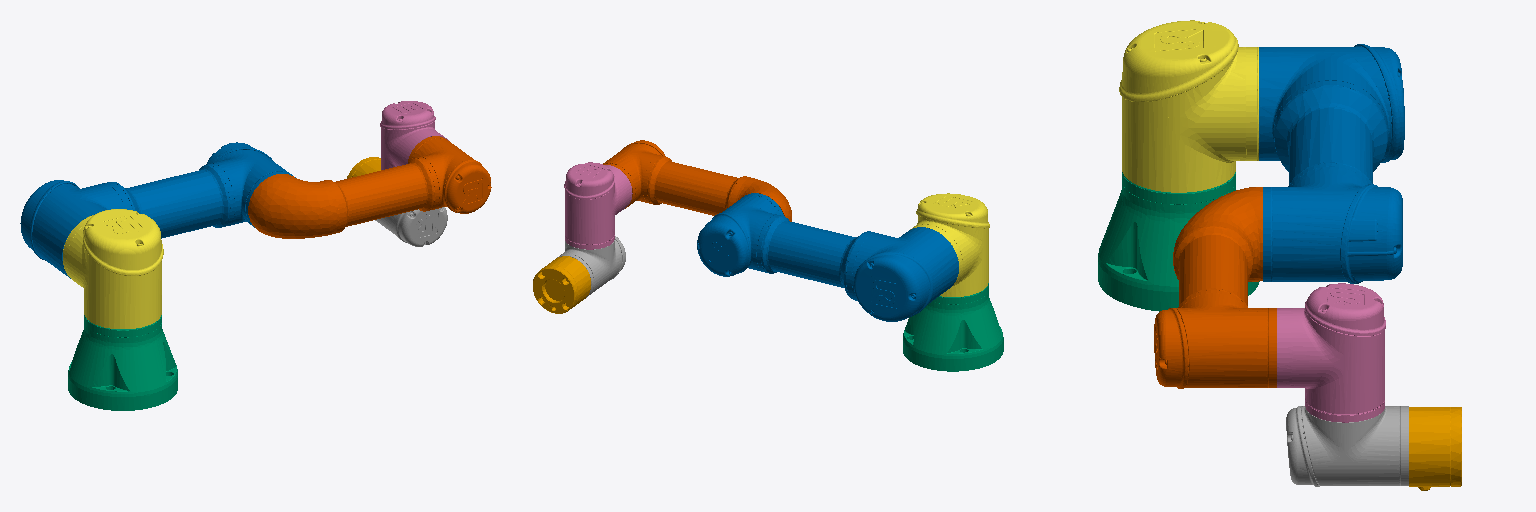
robot.urdf — ur3e:
<?xml version="1.0" ?>
<robot name="ur3e">
  <mujoco>
    <compiler 
      meshdir="meshes/" 
      balanceinertia="true" 
      discardvisual="false"
    />
  </mujoco>

  <!-- create link fixed to the "world" -->
  <link name="world"/>
  <!-- Add URDF transmission elements (for ros_control) -->
  <!--<xacro:ur_arm_transmission prefix="${prefix}" hw_interface="${transmission_hw_interface}" />-->
  <!-- Placeholder for ros2_control transmission which don't yet exist -->
  <!-- links -  main serial chain -->
  <link name="base_link"/>
  <link name="base_link_inertia">
    <visual>
      <origin rpy="0 0 3.141592653589793" xyz="0 0 0"/>
      <geometry>
        <mesh filename="meshes/base.stl"/>
      </geometry>
    </visual>
    <collision>
      <origin rpy="0 0 3.141592653589793" xyz="0 0 0"/>
      <geometry>
        <mesh filename="meshes/base.stl"/>
      </geometry>
    </collision>
    <inertial>
      <mass value="2.0"/>
      <origin rpy="0 0 0" xyz="0 0 0"/>
      <inertia ixx="0.0030531654454" ixy="0.0" ixz="0.0" iyy="0.0030531654454" iyz="0.0" izz="0.005625"/>
    </inertial>
  </link>
  <link name="shoulder_link">
    <visual>
      <origin rpy="0 0 3.141592653589793" xyz="0 0 0"/>
      <geometry>
        <mesh filename="meshes/shoulder.stl"/>
      </geometry>
    </visual>
    <collision>
      <origin rpy="0 0 3.141592653589793" xyz="0 0 0"/>
      <geometry>
        <mesh filename="meshes/shoulder.stl"/>
      </geometry>
    </collision>
    <inertial>
      <mass value="1.98"/>
      <origin rpy="1.570796326794897 0 0" xyz="0.0 0.0 -0.02"/>
      <inertia ixx="0.0027657" ixy="9.6e-06" ixz="-1.49e-05" iyy="0.0021501" iyz="0.0001873" izz="0.0025626"/>
    </inertial>
  </link>
  <link name="upper_arm_link">
    <visual>
      <origin rpy="1.5707963267948966 0 -1.5707963267948966" xyz="0 0 0.12"/>
      <geometry>
        <mesh filename="meshes/upperarm.stl"/>
      </geometry>
    </visual>
    <collision>
      <origin rpy="1.5707963267948966 0 -1.5707963267948966" xyz="0 0 0.12"/>
      <geometry>
        <mesh filename="meshes/upperarm.stl"/>
      </geometry>
    </collision>
    <inertial>
      <mass value="3.4445"/>
      <origin rpy="0 0 0" xyz="-0.11355 0.0 0.1157"/>
      <inertia ixx="0.0042623" ixy="-4.09e-05" ixz="-0.001496" iyy="0.0460284" iyz="-1.29e-05" izz="0.0448947"/>
    </inertial>
  </link>
  <link name="forearm_link">
    <visual>
      <origin rpy="1.5707963267948966 0 -1.5707963267948966" xyz="0 0 0.027"/>
      <geometry>
        <mesh filename="meshes/forearm.stl"/>
      </geometry>
    </visual>
    <collision>
      <origin rpy="1.5707963267948966 0 -1.5707963267948966" xyz="0 0 0.027"/>
      <geometry>
        <mesh filename="meshes/forearm.stl"/>
      </geometry>
    </collision>
    <inertial>
      <mass value="1.437"/>
      <origin rpy="0 0 0" xyz="-0.1632 0.0 0.0238"/>
      <inertia ixx="0.0010511" ixy="0.0" ixz="-3.31e-05" iyy="0.0113396" iyz="2.2e-06" izz="0.0110895"/>
    </inertial>
  </link>
  <link name="wrist_1_link">
    <visual>
      <origin rpy="1.5707963267948966 0 0" xyz="0 0 -0.104"/>
      <geometry>
        <mesh filename="meshes/wrist1.stl"/>
      </geometry>
    </visual>
    <collision>
      <origin rpy="1.5707963267948966 0 0" xyz="0 0 -0.104"/>
      <geometry>
        <mesh filename="meshes/wrist1.stl"/>
      </geometry>
    </collision>
    <inertial>
      <mass value="0.871"/>
      <origin rpy="1.570796326794897 0 0" xyz="0.0 -0.01 0.0"/>
      <inertia ixx="0.0008174" ixy="-5e-07" ixz="2.1e-06" iyy="0.0006844" iyz="6.17e-05" izz="0.0005497"/>
    </inertial>
  </link>
  <link name="wrist_2_link">
    <visual>
      <origin rpy="0 0 0" xyz="0 0 -0.08535"/>
      <geometry>
        <mesh filename="meshes/wrist2.stl"/>
      </geometry>
    </visual>
    <collision>
      <origin rpy="0 0 0" xyz="0 0 -0.08535"/>
      <geometry>
        <mesh filename="meshes/wrist2.stl"/>
      </geometry>
    </collision>
    <inertial>
      <mass value="0.805"/>
      <origin rpy="-1.570796326794897 0 0" xyz="0.0 0.01 0.0"/>
      <inertia ixx="0.0006059" ixy="-6e-07" ixz="-6e-07" iyy="0.0005837" iyz="-2.71e-05" izz="0.0003831"/>
    </inertial>
  </link>
  <link name="wrist_3_link">
    <visual>
      <origin rpy="1.5707963267948966 0 0" xyz="0 0 -0.0921"/>
      <geometry>
        <mesh filename="meshes/wrist3.stl"/>
      </geometry>
    </visual>
    <collision>
      <origin rpy="1.5707963267948966 0 0" xyz="0 0 -0.0921"/>
      <geometry>
        <mesh filename="meshes/wrist3.stl"/>
      </geometry>
    </collision>
    <inertial>
      <mass value="0.261"/>
      <origin rpy="0 0 0" xyz="0.0 0.0 -0.02"/>
      <inertia ixx="0.000108" ixy="-1e-07" ixz="-1e-07" iyy="0.0001086" iyz="-2e-07" izz="0.0001371"/>
    </inertial>
  </link>
  <!-- base_joint fixes base_link to the environment -->
  <joint name="base_joint" type="fixed">
    <origin rpy="0 0 0" xyz="0 0 0"/>
    <parent link="world"/>
    <child link="base_link"/>
  </joint>
  <!-- joints - main serial chain -->
  <joint name="base_link-base_link_inertia" type="fixed">
    <parent link="base_link"/>
    <child link="base_link_inertia"/>
    <!-- 'base_link' is REP-103 aligned (so X+ forward), while the internal
           frames of the robot/controller have X+ pointing backwards.
           Use the joint between 'base_link' and 'base_link_inertia' (a dummy
           link/frame) to introduce the necessary rotation over Z (of pi rad).
      -->
    <origin rpy="0 0 3.141592653589793" xyz="0 0 0"/>
  </joint>
  <joint name="shoulder_pan_joint" type="revolute">
    <parent link="base_link_inertia"/>
    <child link="shoulder_link"/>
    <origin rpy="0 0 0" xyz="0 0 0.15185"/>
    <axis xyz="0 0 1"/>
    <limit effort="54.0" lower="-6.283185307179586" upper="6.283185307179586" velocity="3.141592653589793"/>
    <dynamics damping="0" friction="0"/>
  </joint>
  <joint name="shoulder_lift_joint" type="revolute">
    <parent link="shoulder_link"/>
    <child link="upper_arm_link"/>
    <origin rpy="1.570796327 0 0" xyz="0 0 0"/>
    <axis xyz="0 0 1"/>
    <limit effort="54.0" lower="-6.283185307179586" upper="6.283185307179586" velocity="3.141592653589793"/>
    <dynamics damping="0" friction="0"/>
  </joint>
  <joint name="elbow_joint" type="revolute">
    <parent link="upper_arm_link"/>
    <child link="forearm_link"/>
    <origin rpy="0 0 0" xyz="-0.24355 0 0"/>
    <axis xyz="0 0 1"/>
    <limit effort="28.0" lower="-3.141592653589793" upper="3.141592653589793" velocity="3.141592653589793"/>
    <dynamics damping="0" friction="0"/>
  </joint>
  <joint name="wrist_1_joint" type="revolute">
    <parent link="forearm_link"/>
    <child link="wrist_1_link"/>
    <origin rpy="0 0 0" xyz="-0.2132 0 0.13105"/>
    <axis xyz="0 0 1"/>
    <limit effort="9.0" lower="-6.283185307179586" upper="6.283185307179586" velocity="6.283185307179586"/>
    <dynamics damping="0" friction="0"/>
  </joint>
  <joint name="wrist_2_joint" type="revolute">
    <parent link="wrist_1_link"/>
    <child link="wrist_2_link"/>
    <origin rpy="1.570796327 0 0" xyz="0 -0.08535 -1.750557762378351e-11"/>
    <axis xyz="0 0 1"/>
    <limit effort="9.0" lower="-6.283185307179586" upper="6.283185307179586" velocity="6.283185307179586"/>
    <dynamics damping="0" friction="0"/>
  </joint>
  <joint name="wrist_3_joint" type="revolute">
    <parent link="wrist_2_link"/>
    <child link="wrist_3_link"/>
    <origin rpy="1.570796326589793 3.141592653589793 3.141592653589793" xyz="0 0.0921 -1.8890025766262e-11"/>
    <axis xyz="0 0 1"/>
    <limit effort="9.0" lower="-6.283185307179586" upper="6.283185307179586" velocity="6.283185307179586"/>
    <dynamics damping="0" friction="0"/>
  </joint>
  <!-- ROS-Industrial 'base' frame - base_link to UR 'Base' Coordinates transform -->
  <link name="base"/>
  <joint name="base_link-base_fixed_joint" type="fixed">
    <origin rpy="0 0 3.141592653589793" xyz="0 0 0"/>
    <parent link="base_link"/>
    <child link="base"/>
  </joint>
</robot>

--- Facts derived from the render (not from the file) ---
Views: 3 orthographic renders of the robot side by side, from view 1: azimuth 30°, elevation 25°; view 2: azimuth 150°, elevation 25°; view 3: azimuth 270°, elevation 25°.
Model ur3e with 10 links and 9 joints (6 revolute, 3 fixed), rooted at world, posed all joints at 0.
Links seen in each view (by area): view 1: forearm_link, upper_arm_link, shoulder_link, base_link_inertia, wrist_1_link, wrist_2_link; view 2: upper_arm_link, base_link_inertia, forearm_link, wrist_1_link, shoulder_link, wrist_3_link, wrist_2_link; view 3: upper_arm_link, shoulder_link, forearm_link, wrist_1_link, base_link_inertia, wrist_2_link, wrist_3_link.
Link boxes in pixels (x1,y1,x2,y2): forearm_link: (248,136,491,238); upper_arm_link: (20,142,295,278); shoulder_link: (63,209,163,328); base_link_inertia: (68,315,177,410); wrist_1_link: (380,101,448,169); wrist_2_link: (375,207,447,246); upper_arm_link: (697,193,958,321); base_link_inertia: (903,283,1003,371); forearm_link: (603,140,791,221); wrist_1_link: (564,162,632,249); shoulder_link: (910,193,989,296); wrist_3_link: (533,256,590,313); wrist_2_link: (557,236,625,297); upper_arm_link: (1259,44,1404,283); shoulder_link: (1119,20,1258,192); forearm_link: (1154,187,1276,388); wrist_1_link: (1277,283,1385,422); base_link_inertia: (1098,172,1259,311); wrist_2_link: (1286,406,1408,486); wrist_3_link: (1409,407,1461,490).
Size in the robot's own frame: 0.553 by 0.2873 by 0.2099 metres.
7 mesh visuals loaded from 7 distinct referenced files (7 binary STL).
